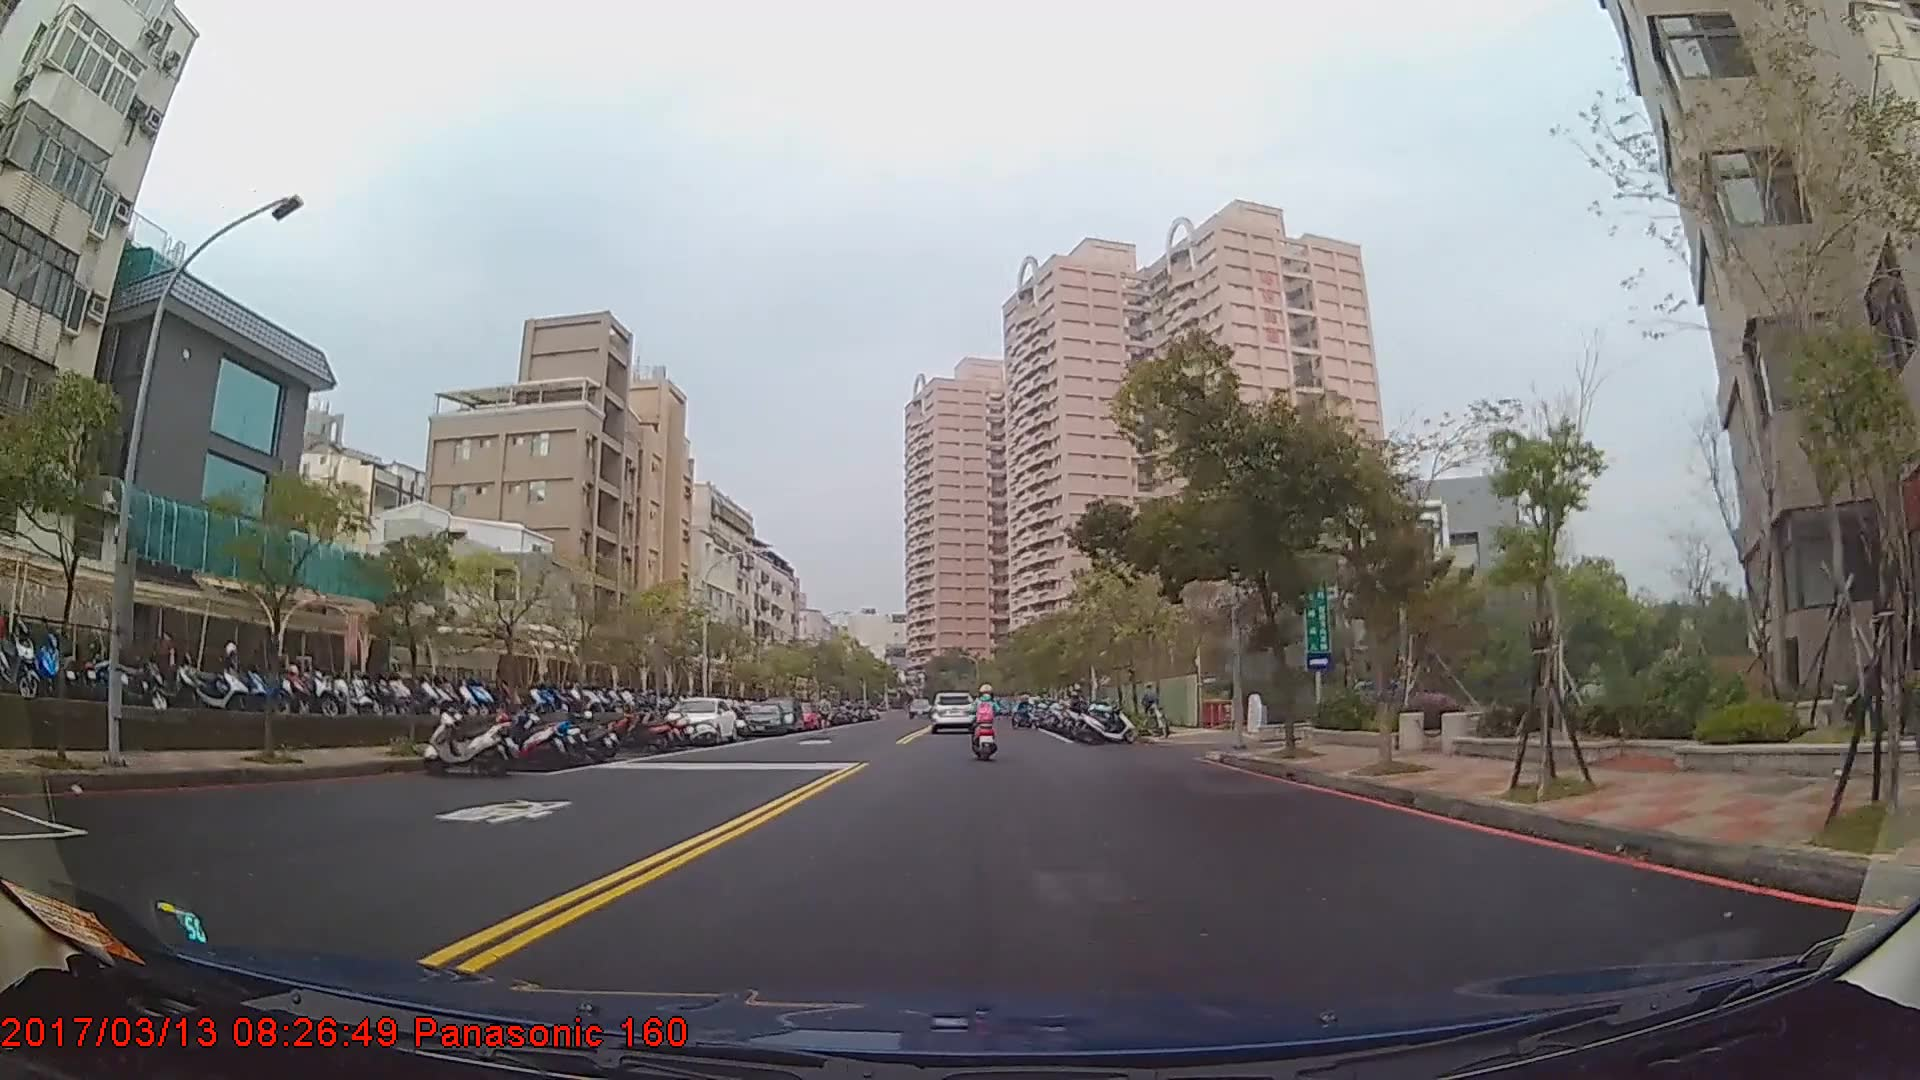pedestrian: (1140, 683, 1162, 733)
rider: (970, 682, 1001, 758)
vehicle: (661, 696, 736, 746), (927, 688, 977, 732), (736, 701, 788, 736)
